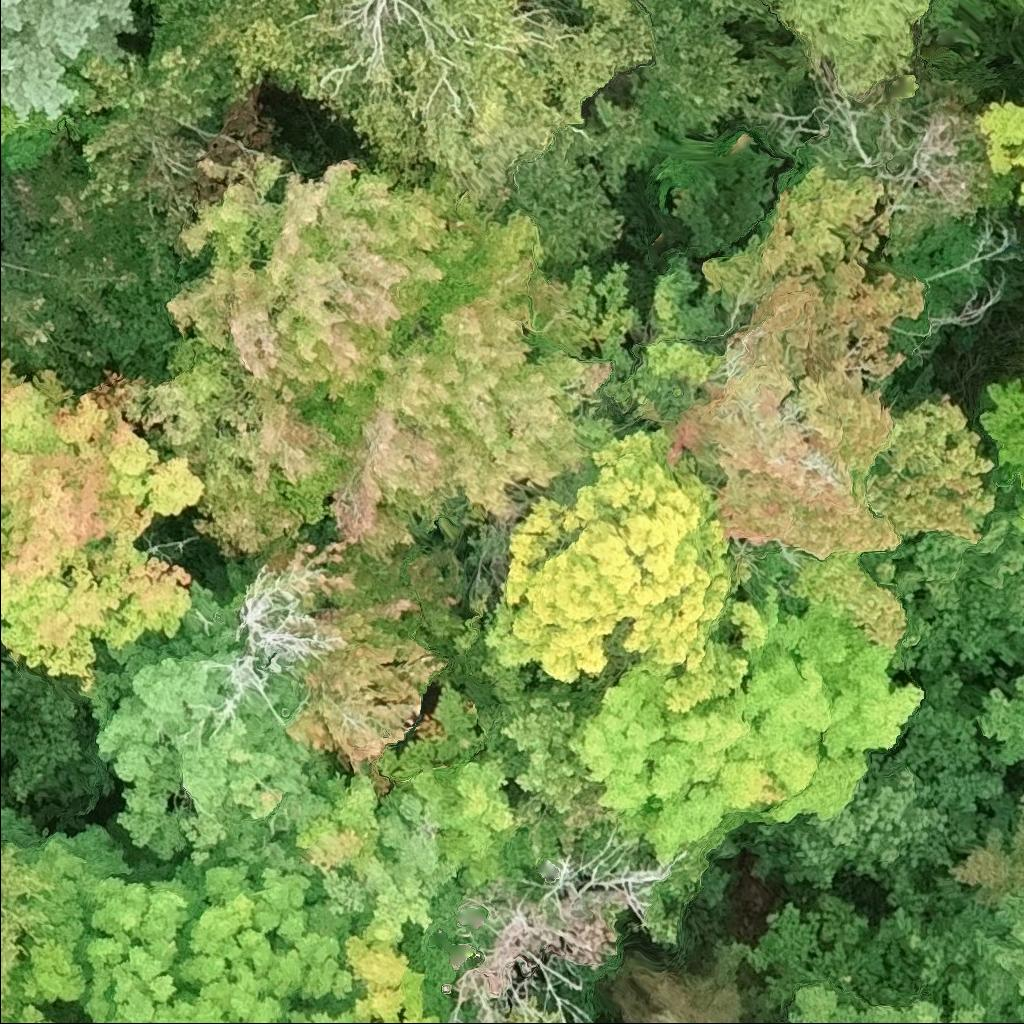crown: (635, 164, 998, 646), (112, 146, 492, 560), (323, 208, 619, 559), (0, 802, 447, 1023), (573, 588, 927, 862), (79, 578, 352, 874), (287, 681, 521, 1013), (344, 0, 670, 216), (0, 368, 206, 690), (226, 520, 468, 791), (483, 429, 736, 684), (746, 672, 1006, 893), (432, 639, 622, 873), (857, 460, 1023, 679), (225, 0, 376, 126), (738, 891, 890, 1016), (0, 0, 141, 126), (760, 0, 935, 98), (866, 865, 968, 1016), (943, 887, 1023, 1023), (940, 788, 1023, 905), (0, 841, 49, 1016), (785, 982, 953, 1023), (974, 379, 1023, 492), (977, 671, 1023, 771), (977, 97, 1023, 176), (945, 975, 1020, 1023), (1013, 174, 1023, 221), (1013, 502, 1023, 539)
